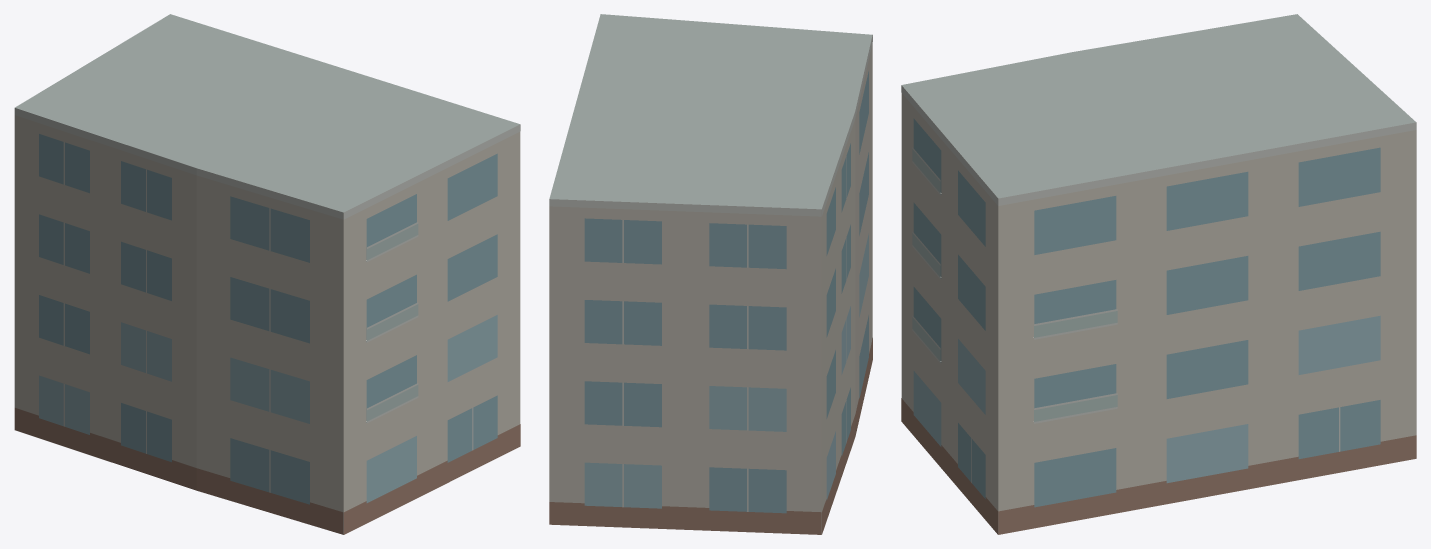
The model's file is survey-upis-33002383.glb.
3 views of the same model, side by side, from view 1: azimuth 30°, elevation 25°; view 2: azimuth 150°, elevation 25°; view 3: azimuth 270°, elevation 25° (orthographic). The views are drawn at different scales.
Visible parts, largest first — view 1: survey-upis-33002383.tmp; view 2: survey-upis-33002383.tmp; view 3: survey-upis-33002383.tmp.
Part boxes in pixels (x1,y1,x2,y2): survey-upis-33002383.tmp: (14,14,520,534); survey-upis-33002383.tmp: (549,14,872,534); survey-upis-33002383.tmp: (901,14,1416,534).
Size of the model in its own units: 12.83 by 10.9 by 15.14.
